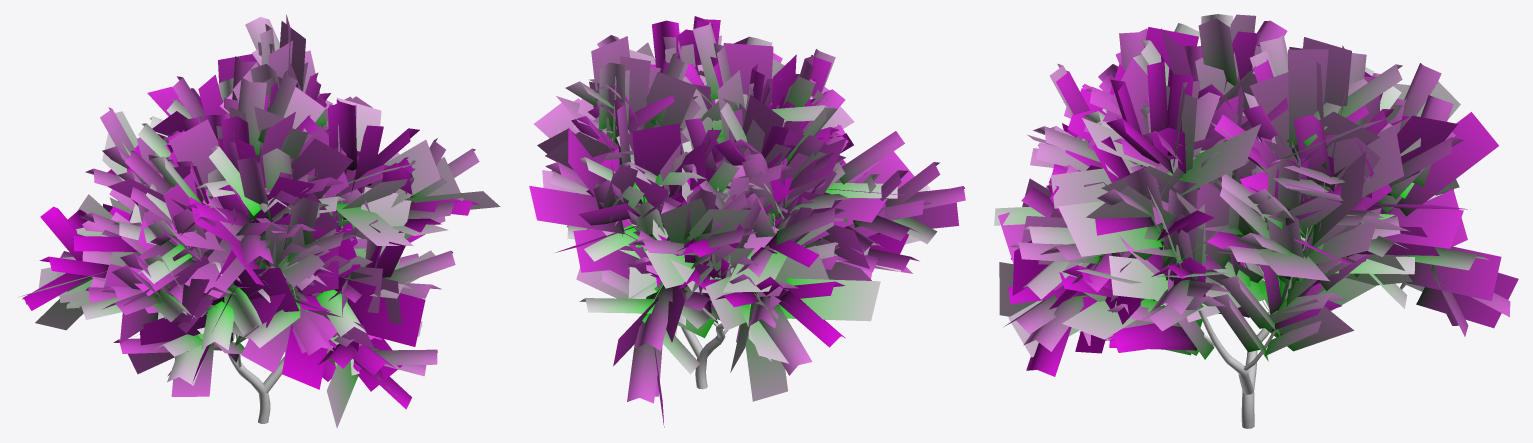
The model's file is rowan_01.fbx.
3 views of the same model, side by side, from view 1: azimuth 30°, elevation 25°; view 2: azimuth 150°, elevation 25°; view 3: azimuth 270°, elevation 25° (orthographic). The views are drawn at different scales.
Visible parts, largest first — view 1: rowan_leaves_01_lod0, rowan_leaves_01_shadow, rowan_tree_01_lod0; view 2: rowan_leaves_01_lod0, rowan_leaves_01_shadow, rowan_tree_01_lod0; view 3: rowan_leaves_01_lod0, rowan_leaves_01_shadow, rowan_tree_01_lod0.
Part boxes in pixels (<box>): rowan_leaves_01_lod0: <box>22,17,479,409</box>; rowan_leaves_01_shadow: <box>18,14,500,428</box>; rowan_tree_01_lod0: <box>109,142,346,423</box>; rowan_leaves_01_lod0: <box>545,16,965,403</box>; rowan_leaves_01_shadow: <box>529,35,958,427</box>; rowan_tree_01_lod0: <box>611,134,788,389</box>; rowan_leaves_01_lod0: <box>994,14,1510,376</box>; rowan_leaves_01_shadow: <box>998,27,1518,357</box>; rowan_tree_01_lod0: <box>1154,133,1324,428</box>.
Size of what is drawn, in the model's own units: 8.05 by 7.32 by 8.32.
